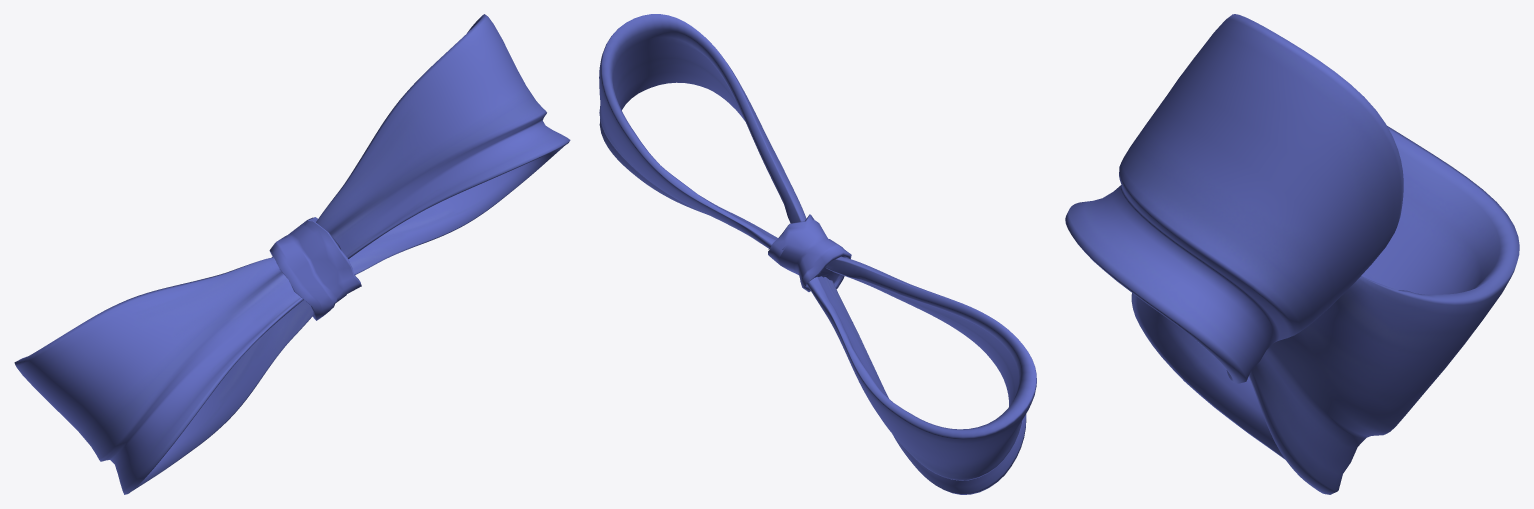
The model's file is hairBowBlue.glb.
3 renders of one model, left to right at view 1: azimuth 30°, elevation 25°; view 2: azimuth 150°, elevation 25°; view 3: azimuth 270°, elevation 25°, orthographic. The views are drawn at different scales.
Parts seen in each view (by area): view 1: hariBow_toSend; view 2: hariBow_toSend; view 3: hariBow_toSend.
Boxes of the visible parts, x1,y1,x2,y2 form: hariBow_toSend: (14, 14, 570, 494); hariBow_toSend: (599, 14, 1036, 494); hariBow_toSend: (1065, 14, 1519, 494).
Bounding box in the file's own units: 0.2466 × 0.1914 × 0.1023.
Materials: 1 (1 with a texture image).
